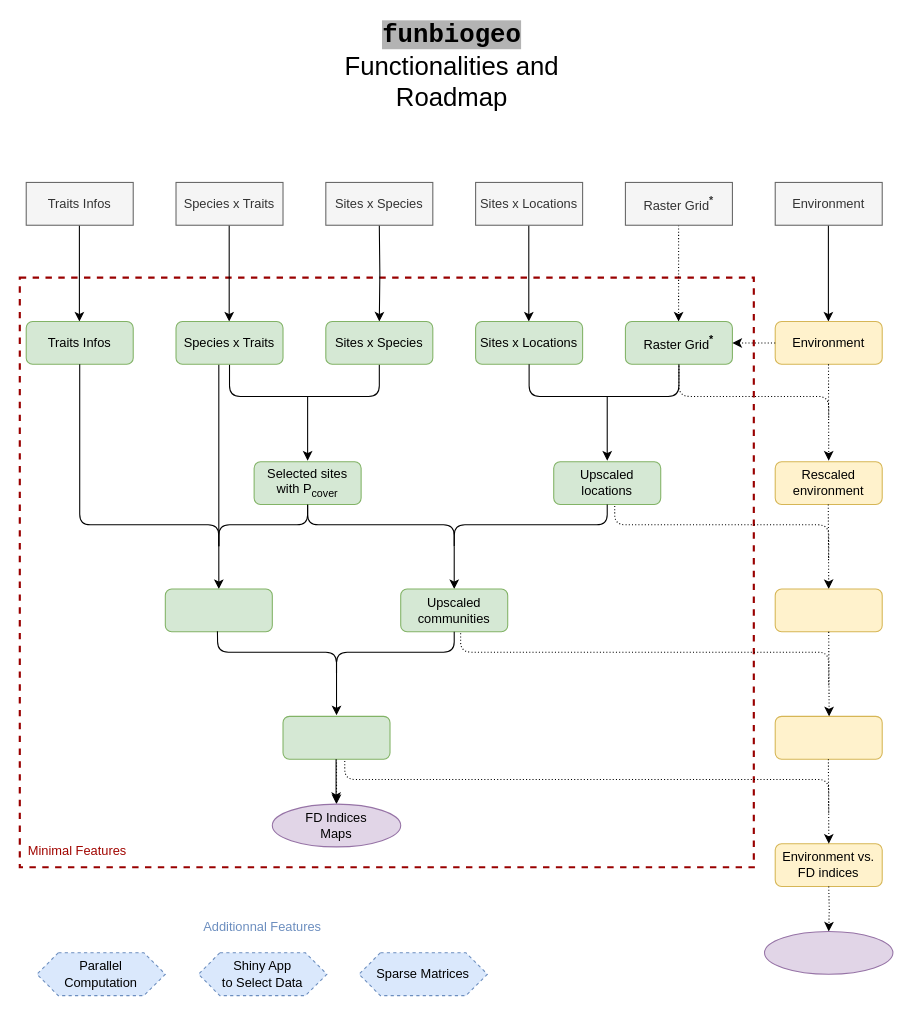
This 912x1014 diagram has some shape labels left out. Each missing label, with the centre of its shape:
Avg. environment at sites: (828,737)
FD indices at sites: (218,610)
FD vs. Env. Biplots: (828,952)
Locations x Environment: (828,610)
Upscaled comm. FD indices: (336,737)
